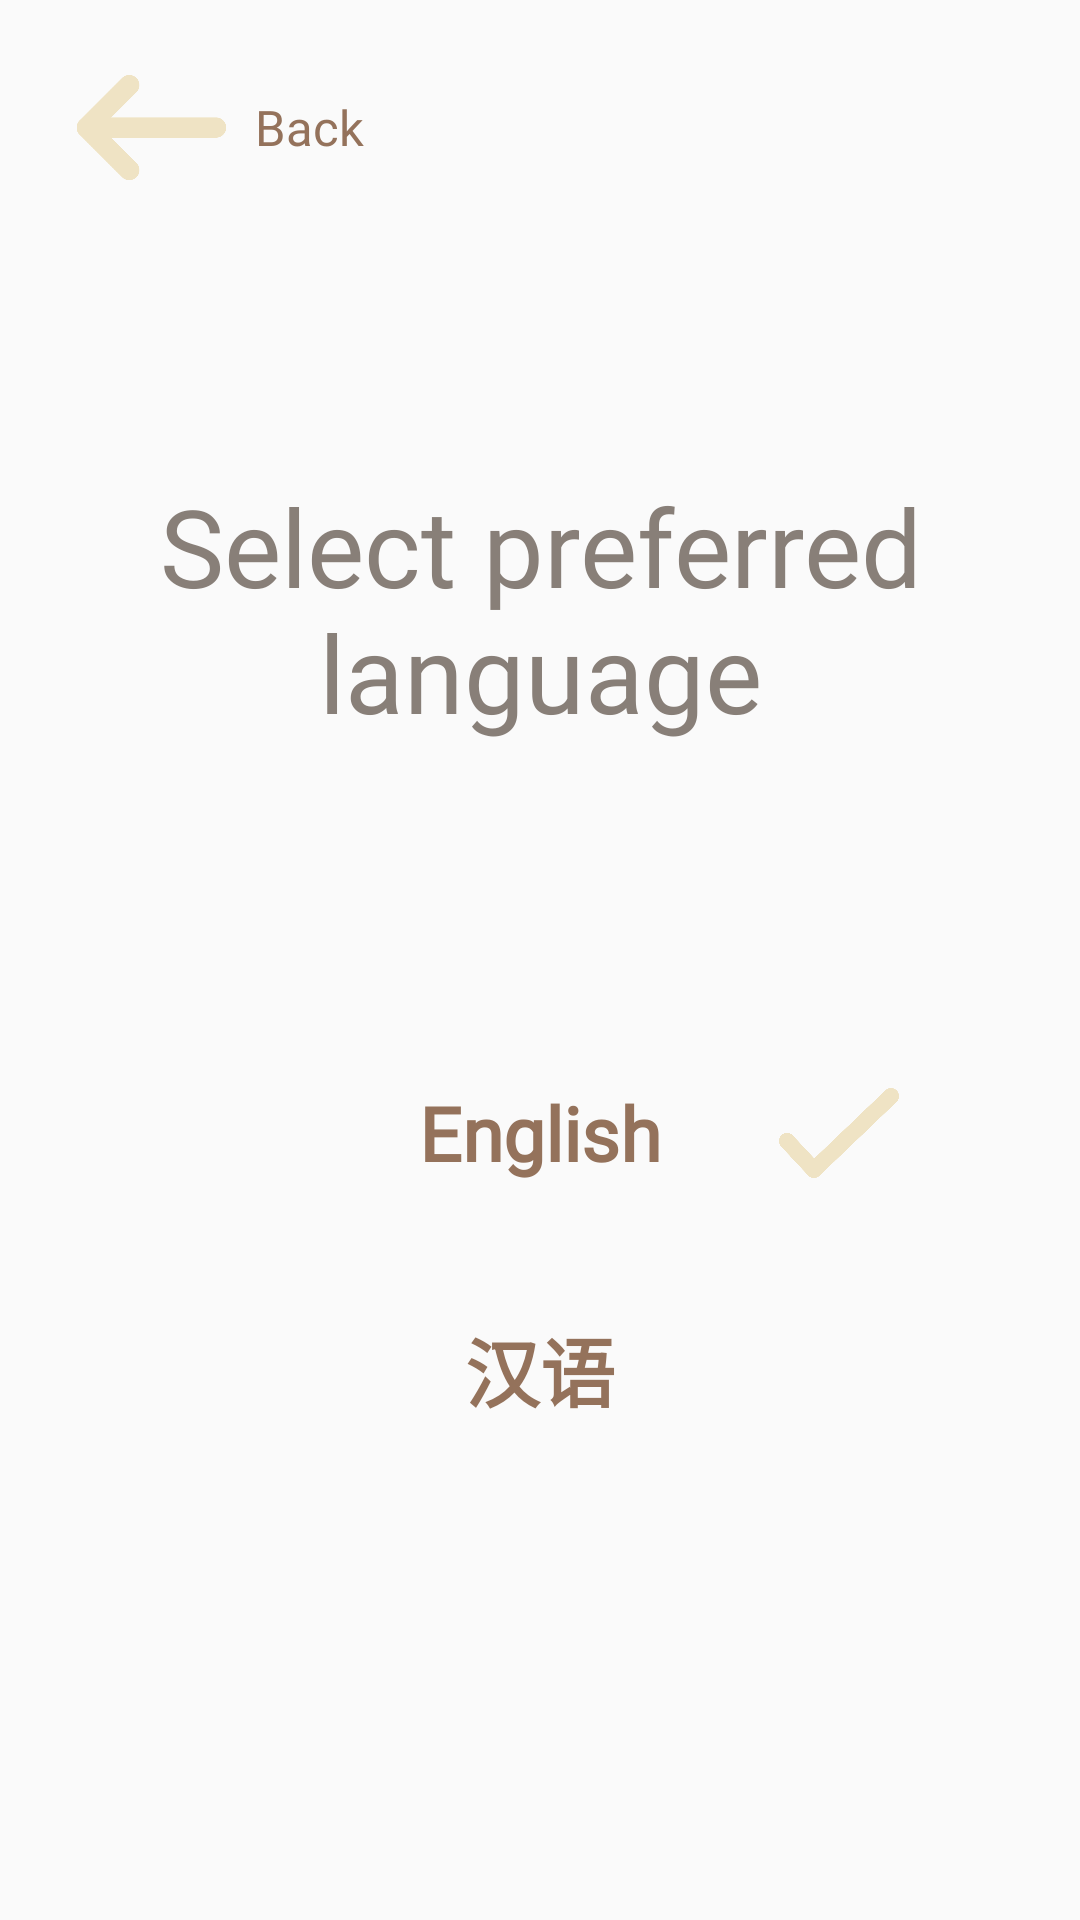

Locate icon controls on the screen. Image size 1080w x 1920h, boxes as [x1,y1,x2,y2].
tick: [779,1088,899,1178]
